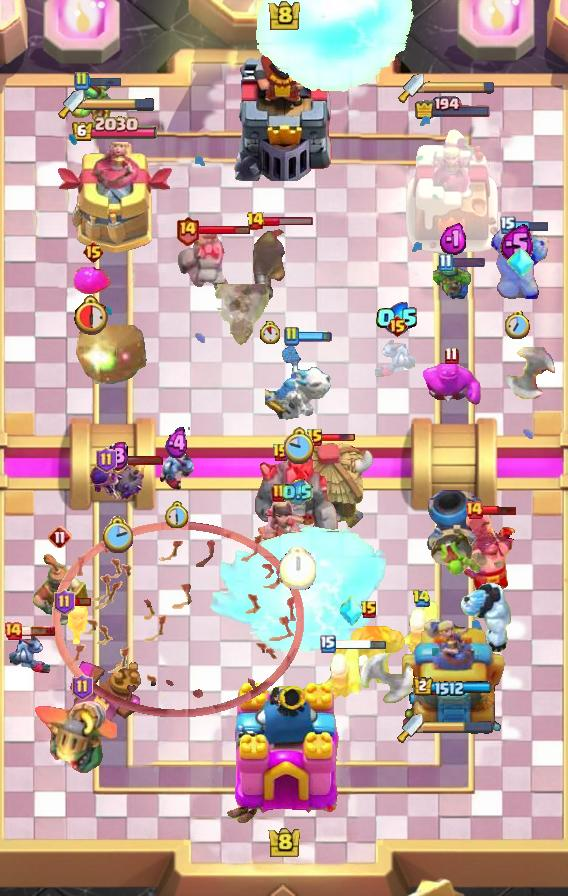axe: (359, 642, 415, 704), (502, 347, 568, 399)
bar: (334, 638, 388, 651), (198, 225, 251, 236), (263, 216, 314, 227), (114, 455, 164, 466), (514, 219, 549, 232), (20, 625, 56, 637), (87, 75, 122, 87), (482, 505, 518, 516), (450, 257, 486, 268), (297, 331, 332, 342), (322, 433, 356, 443), (72, 596, 92, 607)
bar-level: (175, 215, 200, 246), (48, 525, 72, 549), (386, 314, 409, 338), (82, 240, 105, 264), (72, 674, 93, 700), (54, 589, 75, 615), (96, 447, 117, 473), (3, 621, 23, 641), (464, 500, 484, 520), (246, 211, 265, 231), (412, 589, 431, 608), (360, 600, 378, 620), (272, 443, 290, 463), (306, 428, 324, 448), (271, 483, 287, 503), (283, 326, 299, 346), (73, 71, 89, 91), (320, 635, 336, 653), (500, 216, 516, 234), (444, 346, 459, 365), (438, 253, 453, 272)
bomber-evolution: (88, 460, 146, 504)
clock: (279, 547, 316, 590), (74, 294, 112, 335), (101, 516, 133, 553), (284, 427, 316, 464), (165, 501, 190, 529), (505, 311, 530, 339), (260, 321, 280, 344)
dagger-duchess-tower: (55, 142, 173, 256), (403, 124, 503, 256), (401, 615, 506, 731)
dagger-duchess-tower-bar: (84, 97, 156, 111), (424, 80, 496, 94), (423, 721, 493, 735)
dirt: (214, 284, 272, 347)
elixir: (376, 302, 419, 335), (500, 224, 534, 264), (439, 223, 469, 256), (282, 479, 313, 506), (165, 427, 190, 460), (105, 440, 130, 471)
elixir-golem-mid: (420, 361, 482, 407)
elixir-golem-small: (73, 267, 113, 295)
executioner: (460, 507, 516, 595)
firecracker: (321, 643, 363, 701), (400, 598, 442, 656)
goblin-ball: (429, 531, 483, 579)
golemite: (331, 621, 407, 683), (175, 232, 233, 296)
ice-spirit-evolution-symbol: (507, 245, 535, 279), (338, 595, 364, 627)
king-tower: (223, 31, 345, 181), (222, 680, 346, 826)
minion: (157, 447, 197, 491), (6, 636, 50, 674), (375, 340, 419, 378)
mortar: (427, 489, 487, 553)
musketeer: (251, 225, 289, 303)
princess: (253, 495, 305, 553)
royal-recruit: (31, 554, 89, 626)
skeleton-evolution: (65, 602, 93, 644)
spear-goblin: (66, 80, 114, 122), (433, 261, 475, 301)
tower-bar: (71, 116, 158, 143), (414, 96, 492, 120), (414, 677, 493, 697)
